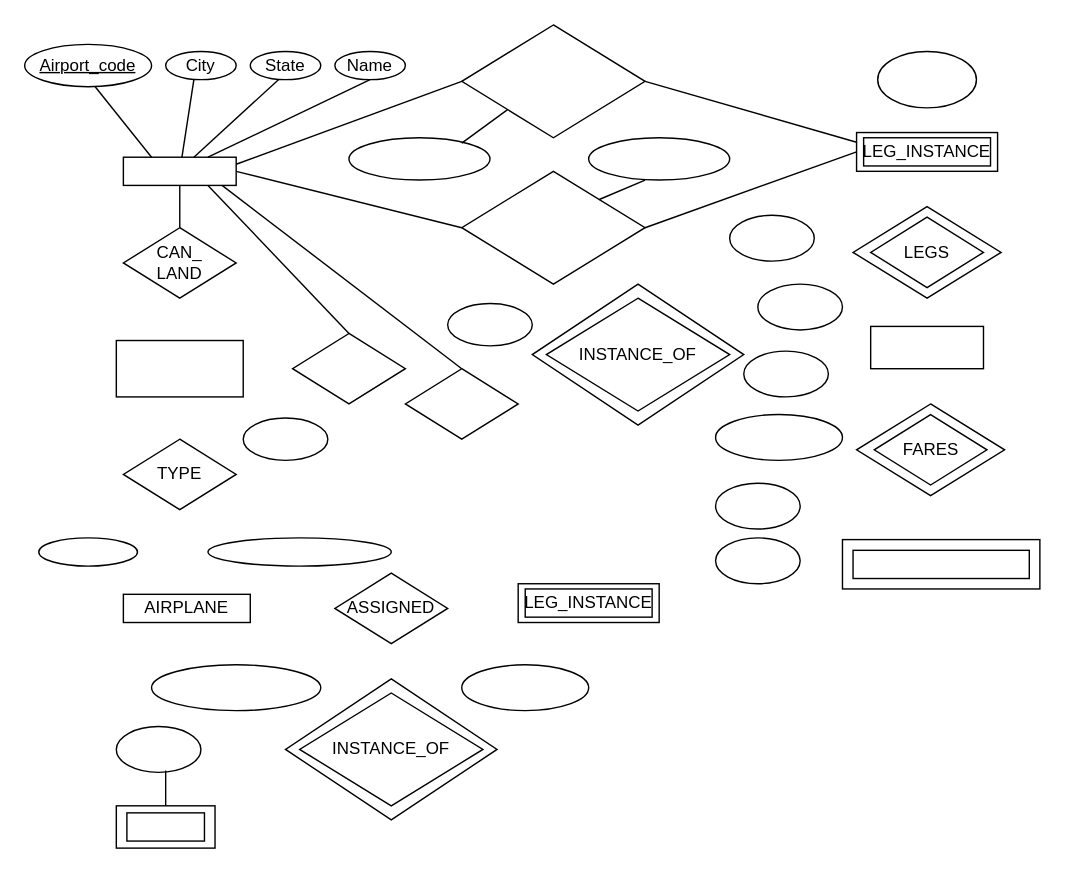
The diagram is 1065 pixels wide and 873 high, and some of its shapes have lost their labels. The shapes that lost their labels are listed below. From the top down, each one's centre as x and y in pixels, then its label:
the point at 179,170: AIRPORT
the point at 179,368: AIRPLANE_ TYPE
the point at 87,551: Airplane_id
the point at 299,551: Total_no_of_seats
the point at 940,564: FARE
the point at 158,748: Seat_no
the point at 164,826: SEAT
